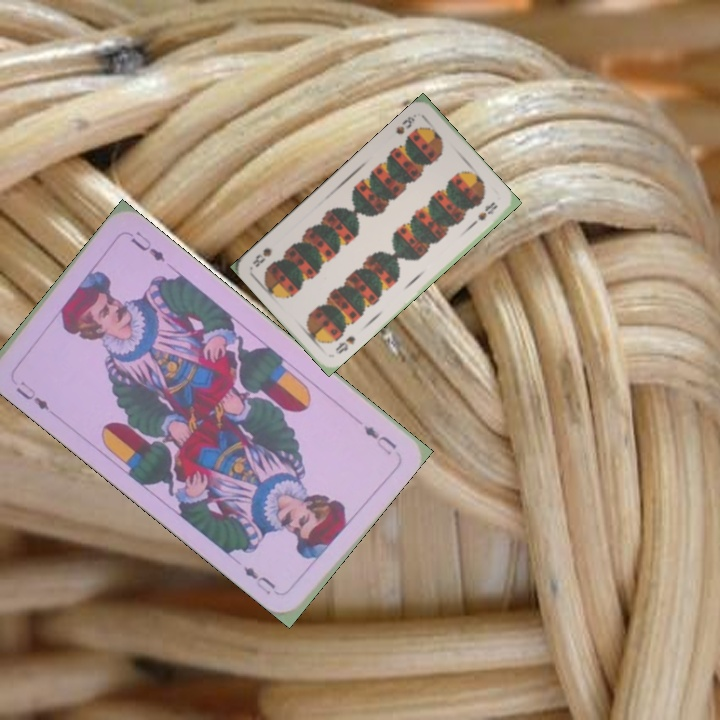EU: (11, 377, 52, 413), (359, 422, 400, 458)
S8: (392, 110, 419, 137), (331, 332, 358, 357)
